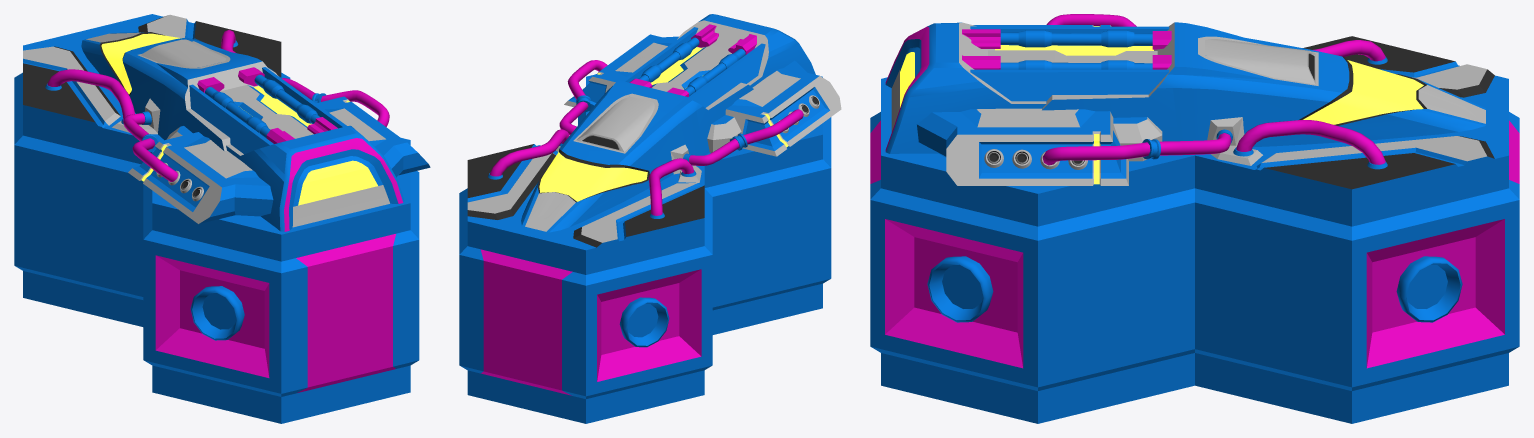
The model's file is SM_Module_Bridge_Hex2.fbx.
3 views of the same model, side by side, from view 1: azimuth 30°, elevation 25°; view 2: azimuth 150°, elevation 25°; view 3: azimuth 270°, elevation 25° (orthographic). The views are drawn at different scales.
Parts seen in each view (by area): view 1: SM_Module_Bridge_Base_Ring_LP.001; view 2: SM_Module_Bridge_Base_Ring_LP.001; view 3: SM_Module_Bridge_Base_Ring_LP.001.
Boxes of the visible parts, x1=… form: SM_Module_Bridge_Base_Ring_LP.001: x1=14, y1=14, x2=430, y2=423; SM_Module_Bridge_Base_Ring_LP.001: x1=459, y1=14, x2=841, y2=423; SM_Module_Bridge_Base_Ring_LP.001: x1=870, y1=14, x2=1519, y2=423.
Bounding box in the file's own units: 427 × 716 × 370.
